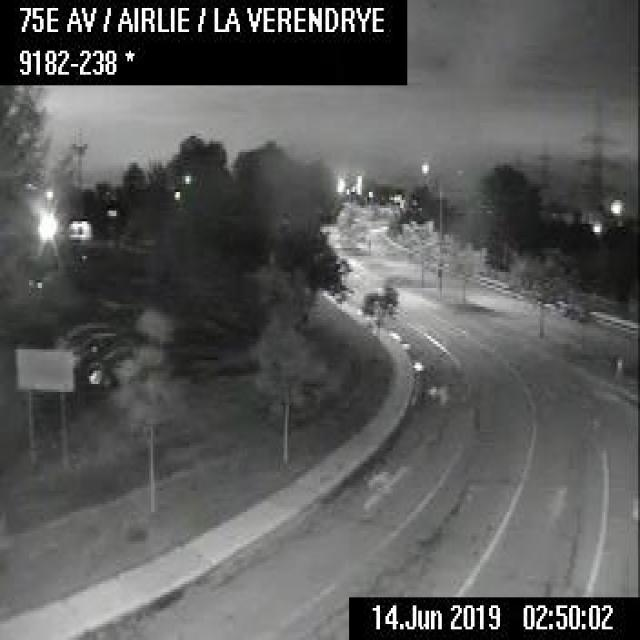vehicle: (75, 339, 137, 386)
